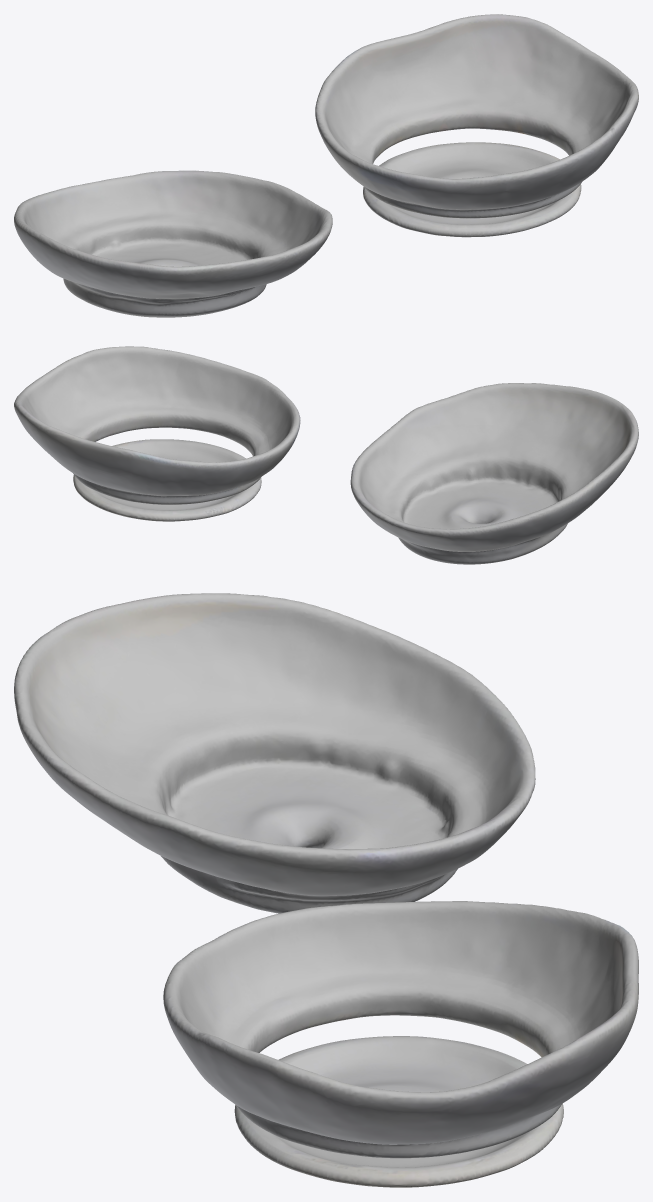
File: lens6.glb
The picture shows the model from 3 angles, top to bottom: view 1: azimuth 30°, elevation 25°; view 2: azimuth 150°, elevation 25°; view 3: azimuth 270°, elevation 25°; orthographic projection. The views are drawn at different scales.
Visible parts, largest first — view 1: tripo_node_4f223d83-1cf0-4e9c-a87e-c83379679159; view 2: tripo_node_4f223d83-1cf0-4e9c-a87e-c83379679159; view 3: tripo_node_4f223d83-1cf0-4e9c-a87e-c83379679159.
Part boxes in pixels (x1,y1,x2,y2): tripo_node_4f223d83-1cf0-4e9c-a87e-c83379679159: (14,14,638,317); tripo_node_4f223d83-1cf0-4e9c-a87e-c83379679159: (14,346,638,564); tripo_node_4f223d83-1cf0-4e9c-a87e-c83379679159: (14,593,638,1187).
Bounding box in the file's own units: 0.9503 × 0.1794 × 0.5296.
Materials: 1 (1 with a texture image).
